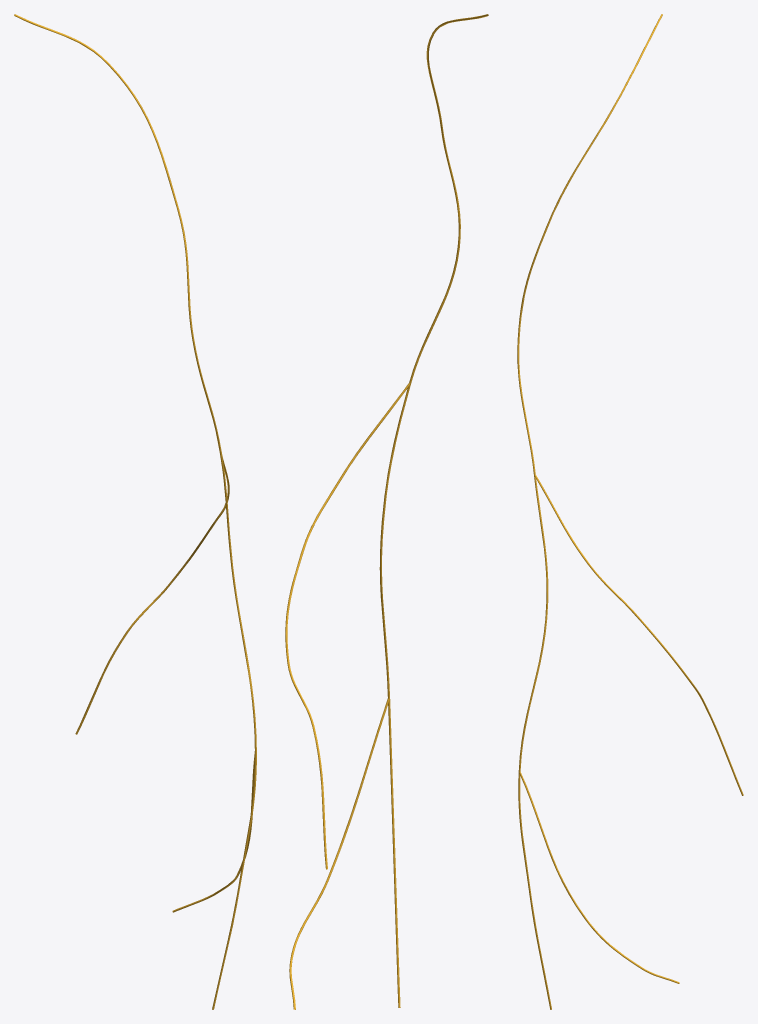
File: nervoso-lateral-femoral-cutaneous-nerve-l.glb
3 views of the same model, side by side, from view 1: azimuth 30°, elevation 25°; view 2: azimuth 150°, elevation 25°; view 3: azimuth 270°, elevation 25° (orthographic). The views are drawn at different scales.
Visible parts, largest first — view 1: Lateral femoral cutaneous nerve.l; view 2: Lateral femoral cutaneous nerve.l; view 3: Lateral femoral cutaneous nerve.l.
Part boxes in pixels (x1,y1,x2,y2): Lateral femoral cutaneous nerve.l: (14,14,256,1009); Lateral femoral cutaneous nerve.l: (285,14,488,1009); Lateral femoral cutaneous nerve.l: (517,14,743,1009).
Bounding box in the file's own units: 0.1083 × 0.525 × 0.1157.
